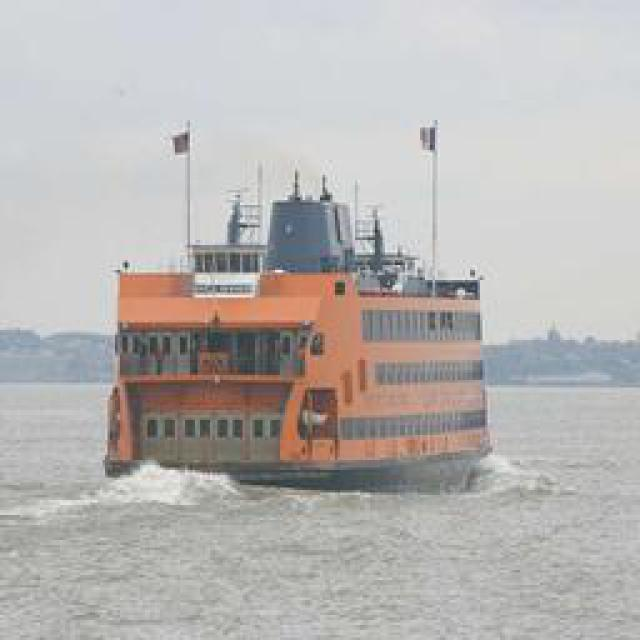Ship: (95, 141, 495, 496)
